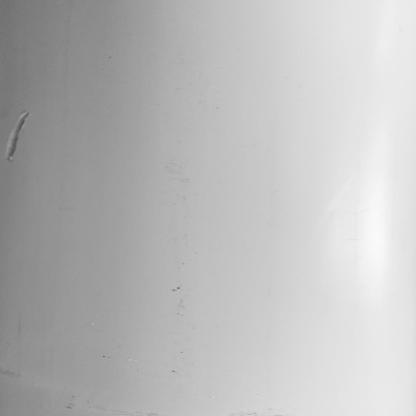sunshang: (3, 109, 32, 163)
